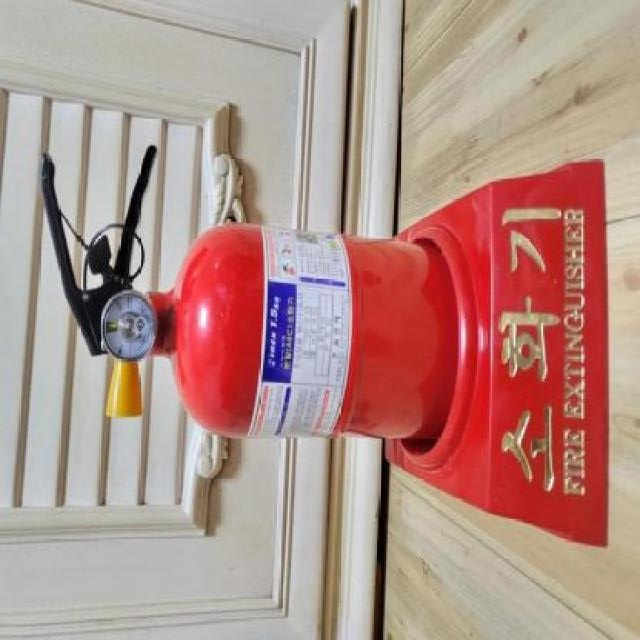fire extinguisher: (38, 144, 458, 441)
